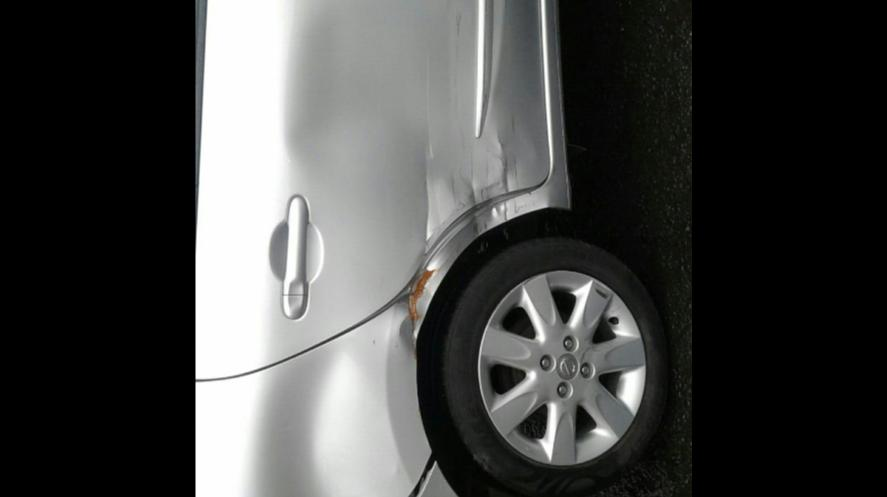Broken part: (326, 174, 554, 341), (401, 452, 438, 497)
Corrosion: (407, 260, 442, 352), (407, 269, 436, 333), (413, 338, 416, 360)
Dent: (395, 113, 547, 353), (275, 8, 425, 214), (249, 350, 394, 497)
Paint chip: (371, 338, 377, 346)
Scratch: (420, 54, 434, 252), (495, 135, 508, 220), (510, 118, 522, 187), (470, 149, 479, 237), (423, 163, 430, 257), (468, 150, 480, 203), (394, 314, 408, 356), (426, 49, 431, 160), (448, 177, 461, 212), (484, 160, 495, 195), (472, 213, 488, 234), (512, 195, 527, 215), (579, 343, 592, 366), (449, 166, 456, 206), (513, 153, 520, 189), (502, 201, 513, 219), (593, 287, 608, 300), (455, 8, 461, 39), (485, 147, 488, 199), (482, 208, 488, 231), (461, 123, 465, 155), (479, 182, 484, 205), (511, 112, 515, 139), (550, 164, 555, 181), (458, 198, 465, 209), (522, 444, 530, 453)
